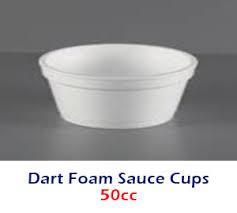Disposable tableware: (32, 26, 211, 145)
